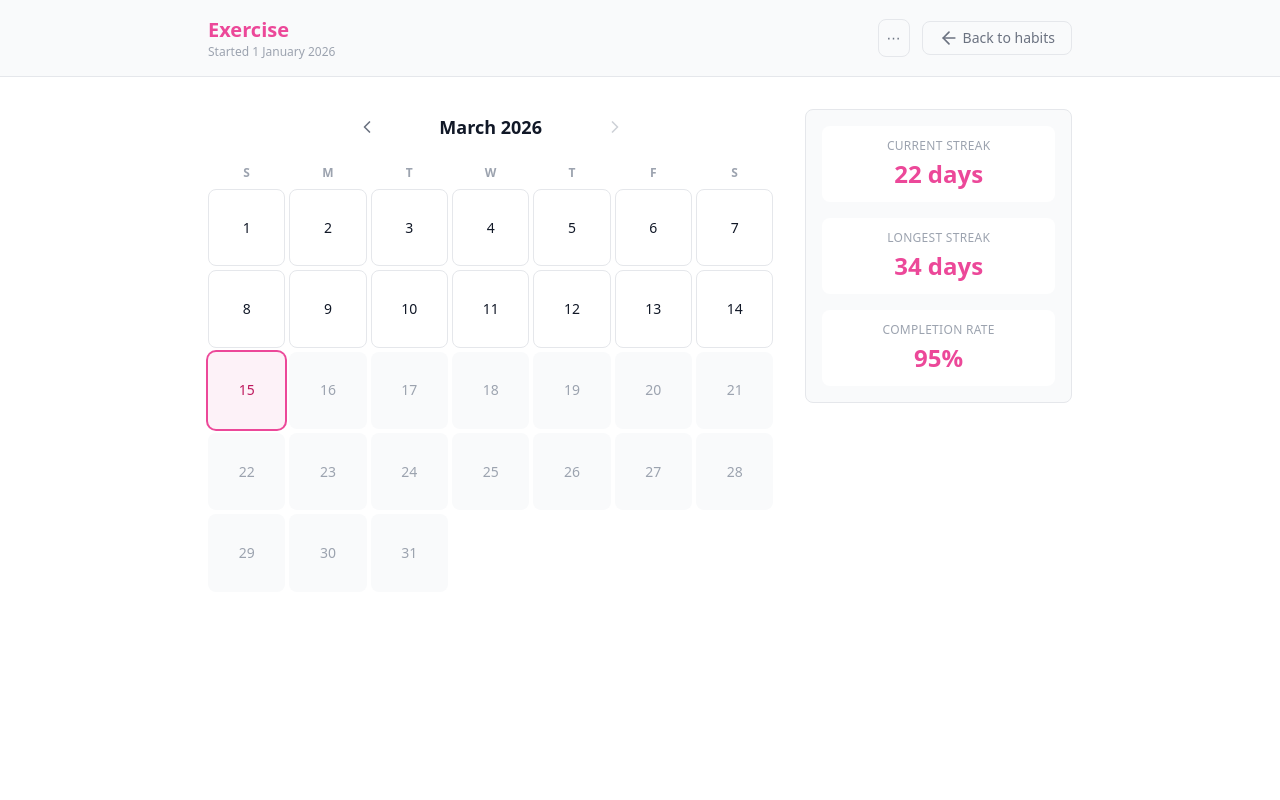
Scenario: HabitCalendarPage › shows error toast when mark mutation fails
This screenshot has width=1280, height=800.
Check: the heading "Exercise" is shown, box [208,16,289,44]
Check: the cell "1" is shown, box [208,189,285,266]
Click the cell "10": click(409, 309) [371,270,448,348]
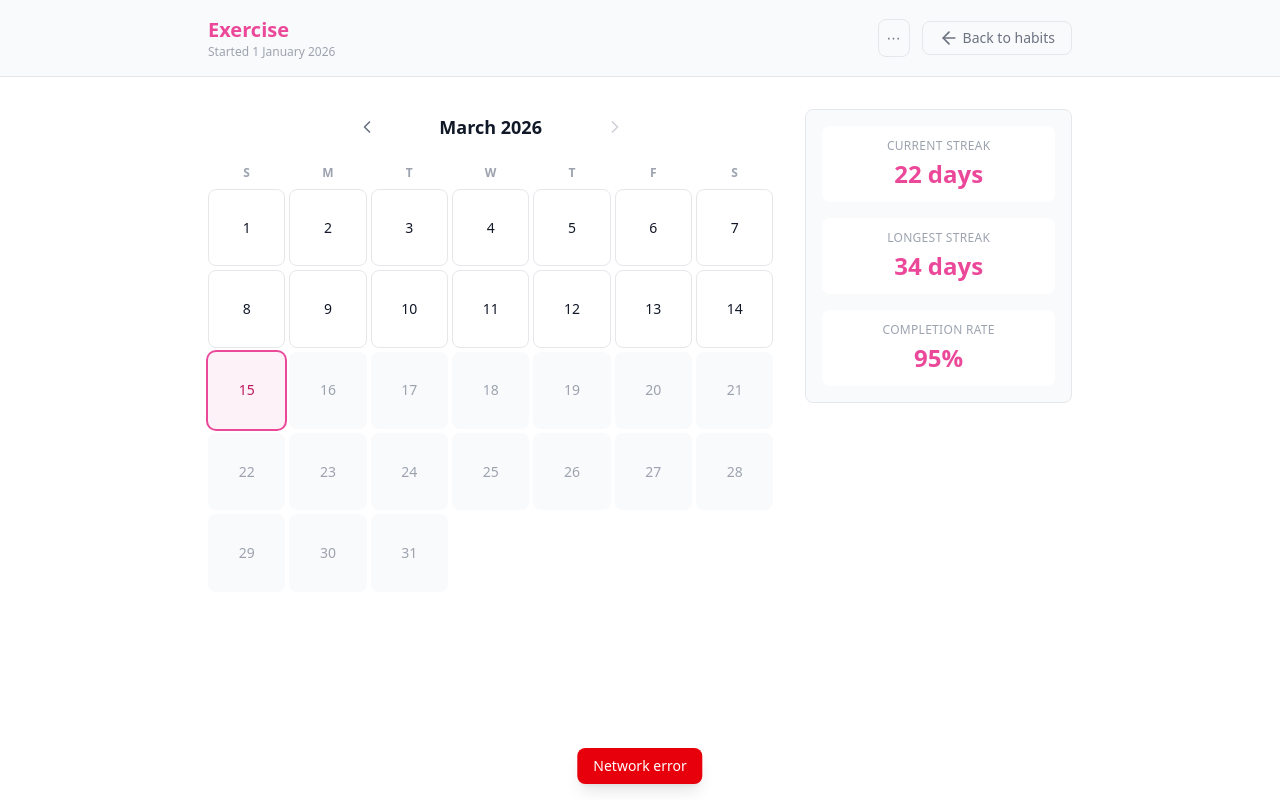
Check: the text "Network error" is shown, box [577,748,703,784]
